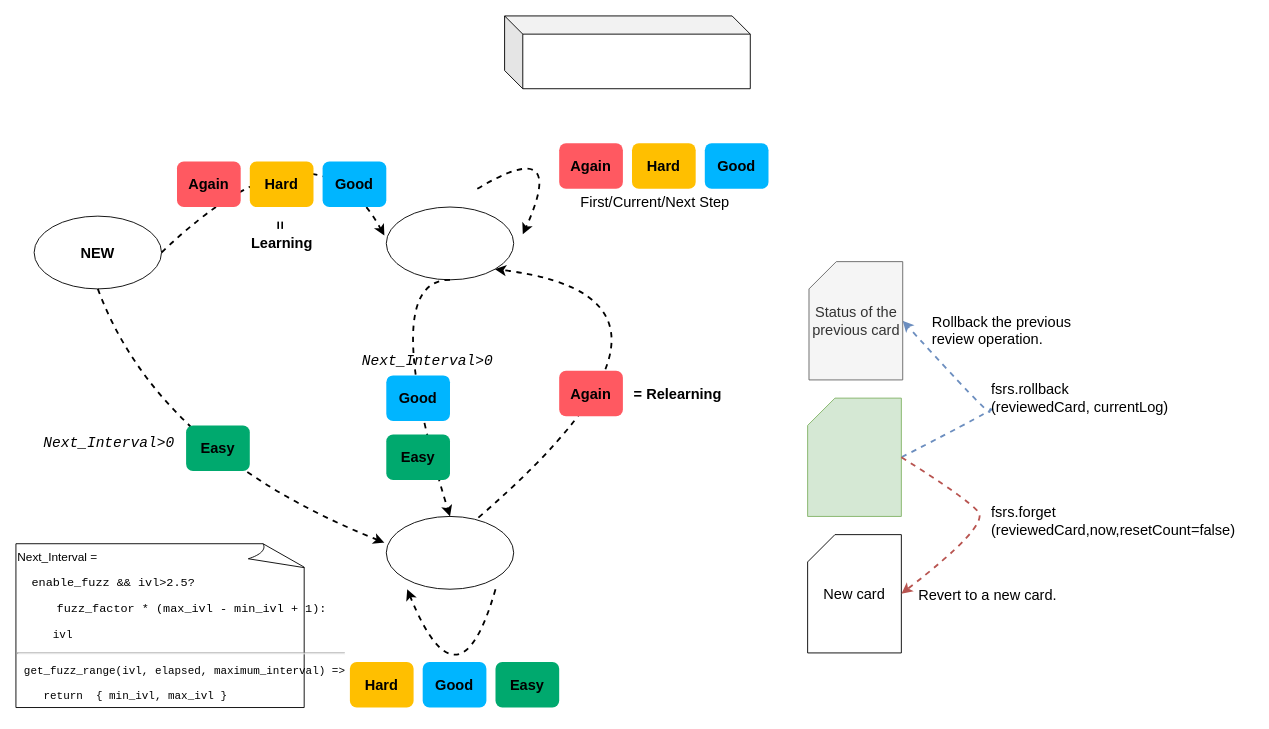
Some shapes in this 1269 by 729 pixel diagram are drawn without their labels. Each missing label, with the box of its shape:
Learning/ ReLearning Ex：1m 5m 10m: (385, 206, 514, 280)
Review: (385, 516, 514, 589)
Reviewed card: (807, 397, 901, 516)
TS-FSRS Workflow: (504, 15, 750, 89)
